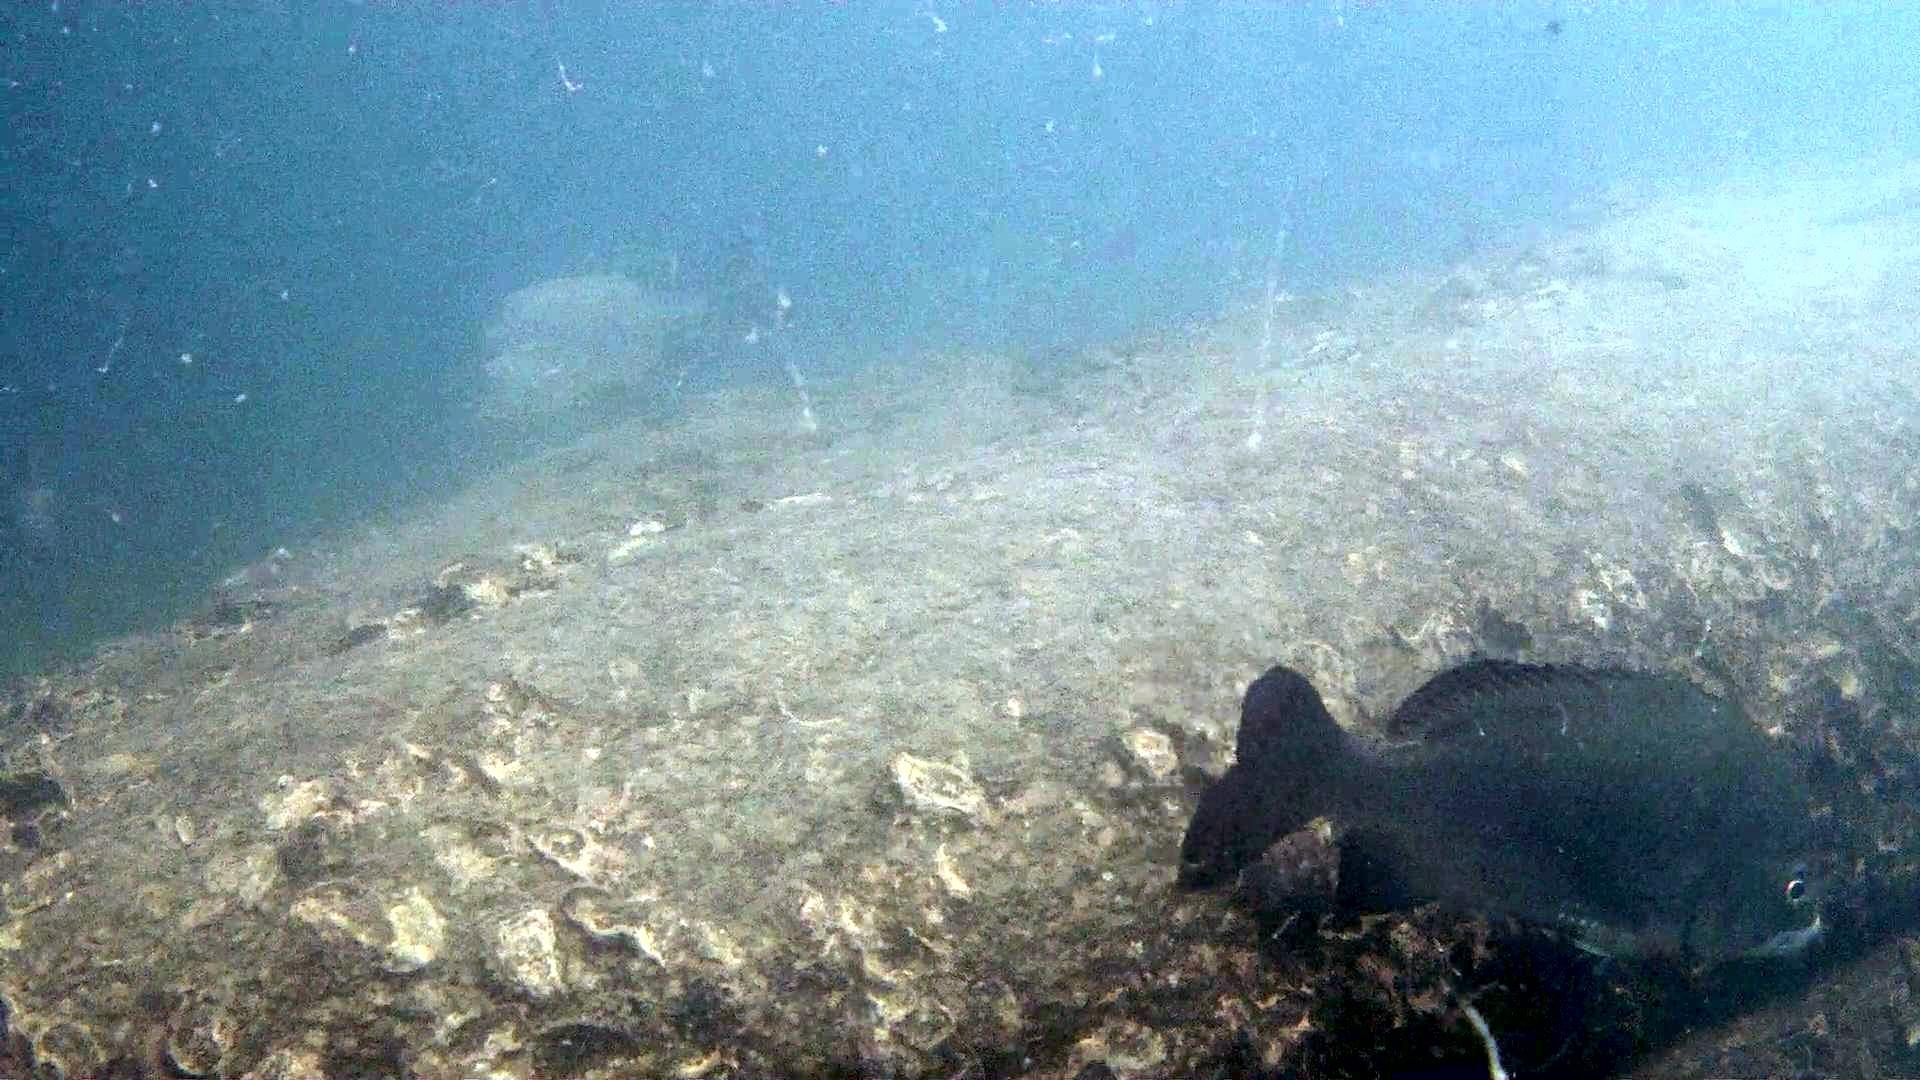acanthopagrus palmaris: (1168, 650, 1863, 1009)
